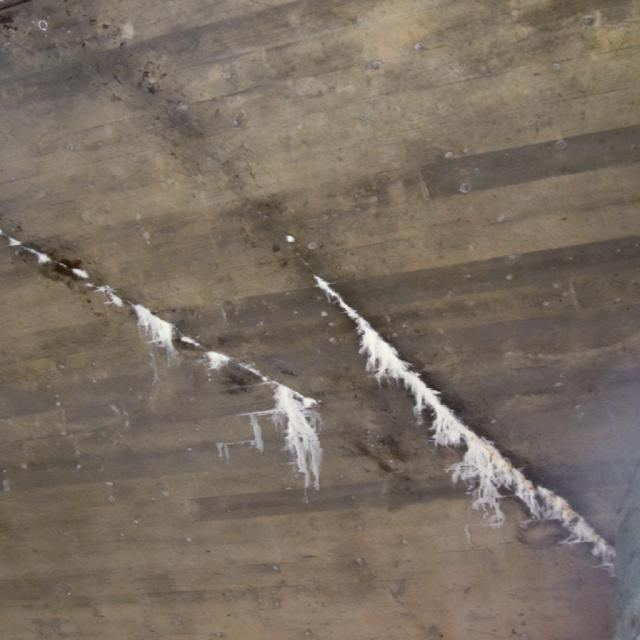D01: (314, 276, 613, 557), (270, 382, 325, 493)
